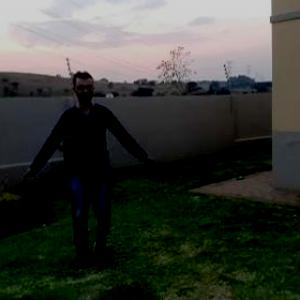land: (14, 69, 146, 273)
